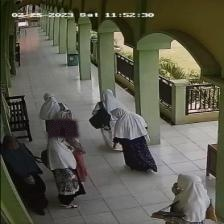Cadar_Niqab: (47, 110, 78, 137)
